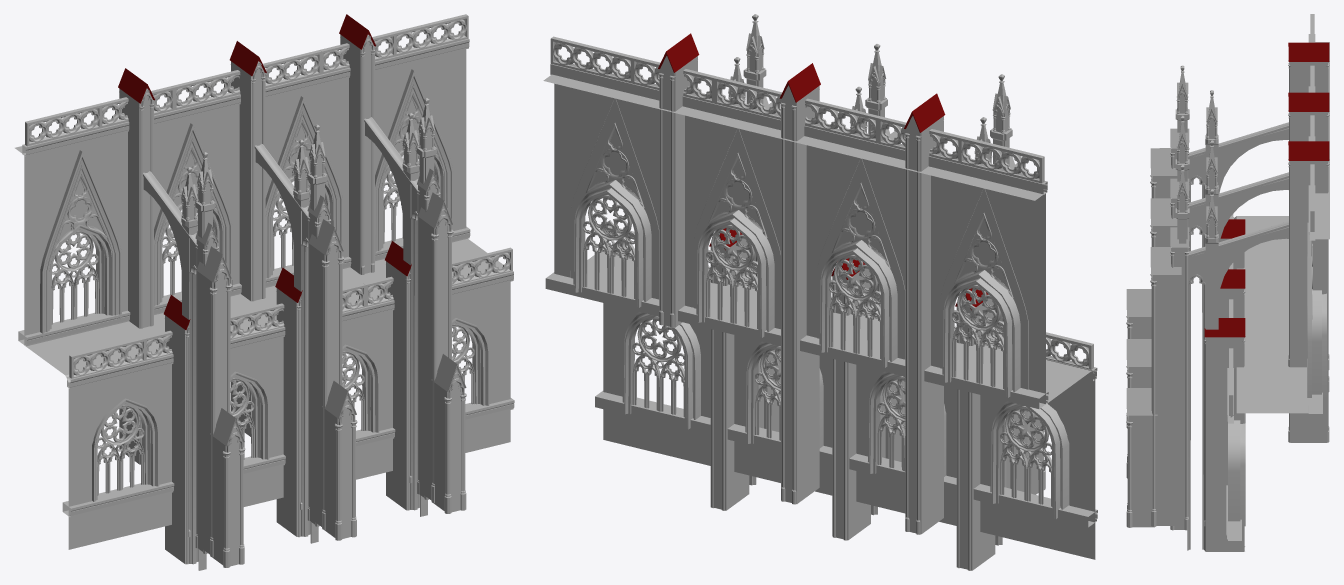
File: hall_004.glb
3 views of the same model, side by side, from view 1: azimuth 30°, elevation 25°; view 2: azimuth 150°, elevation 25°; view 3: azimuth 270°, elevation 25° (orthographic). The views are drawn at different scales.
Visible parts, largest first — view 1: hall_004; view 2: hall_004; view 3: hall_004.
Part boxes in pixels (left/top/right/bottom): hall_004: left=15, top=14, right=514, bottom=570; hall_004: left=543, top=14, right=1097, bottom=570; hall_004: left=1126, top=14, right=1329, bottom=551.
Bounding box in the file's own units: 4.24 × 4.07 × 1.85.
